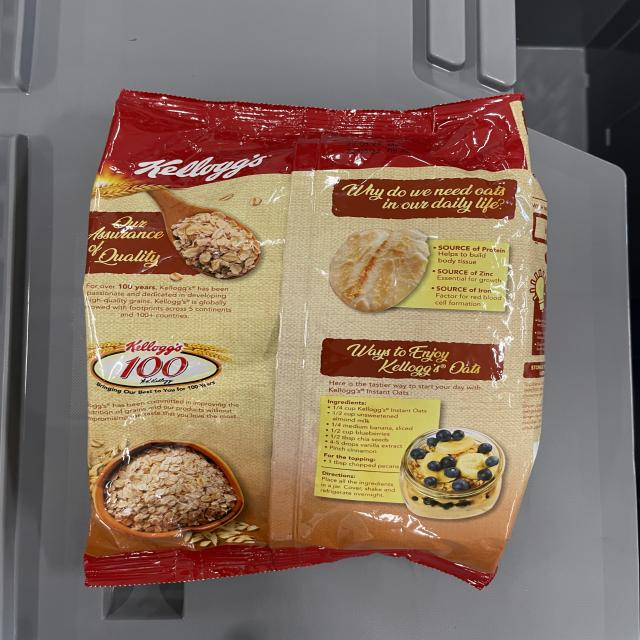object_name: (110, 97, 504, 572)
